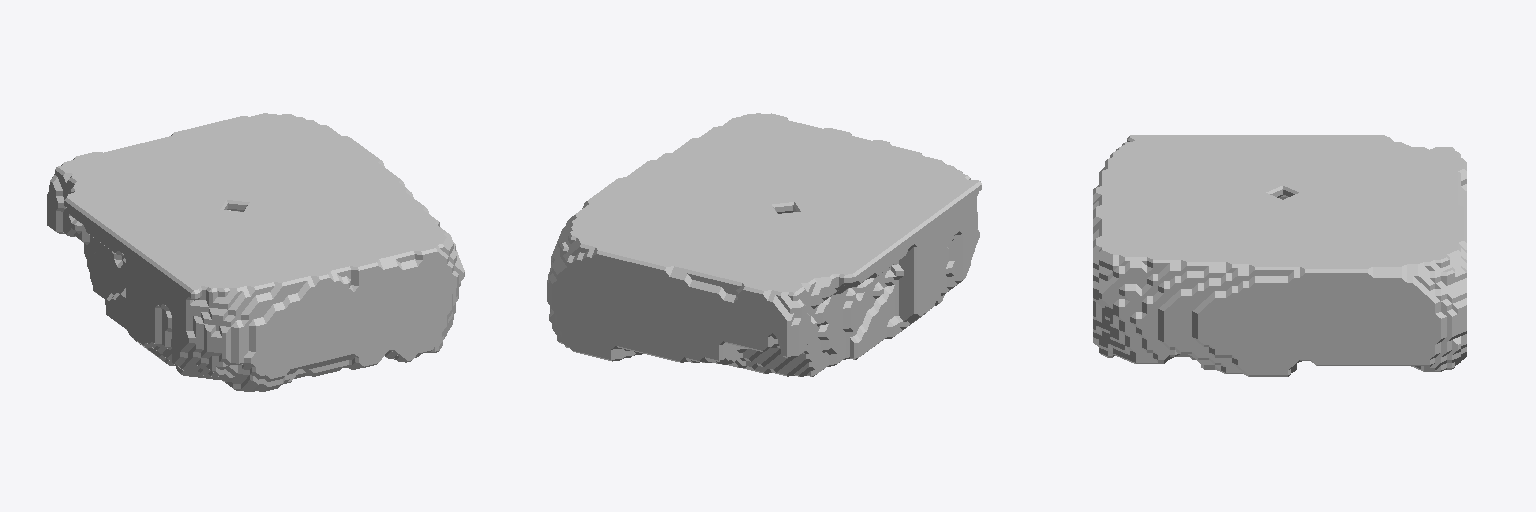
Rendered from Input_surface_mesh.obj.
3 renders of one model, left to right at view 1: azimuth 30°, elevation 25°; view 2: azimuth 150°, elevation 25°; view 3: azimuth 270°, elevation 25°, orthographic.
Size of the model in its own units: 4.56 by 1.68 by 5.28.